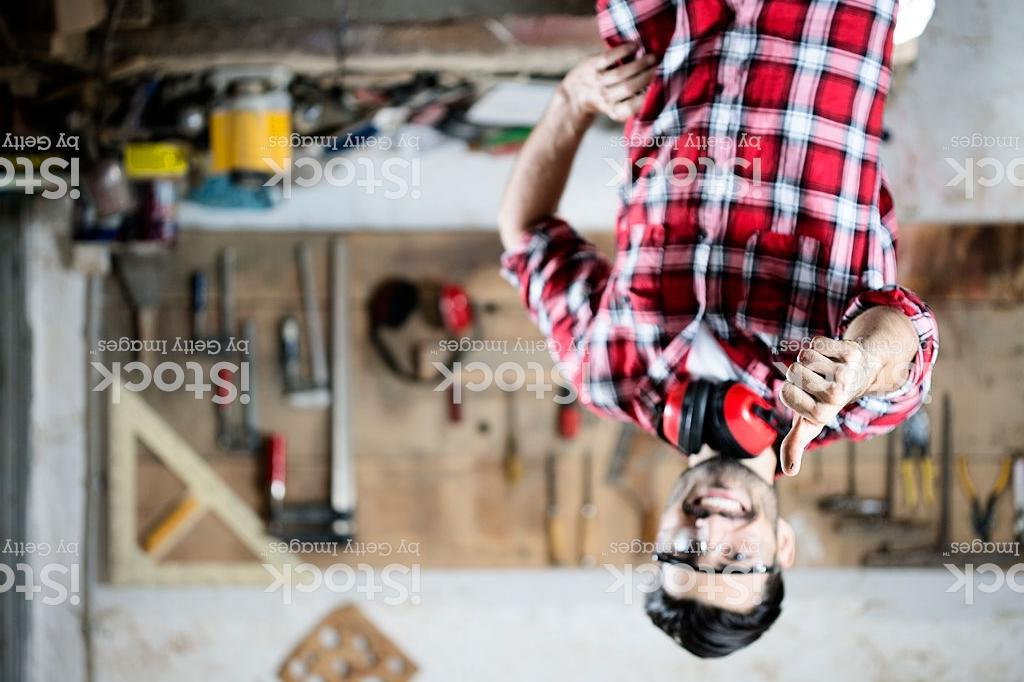thumbsdown: (775, 333, 861, 478)
